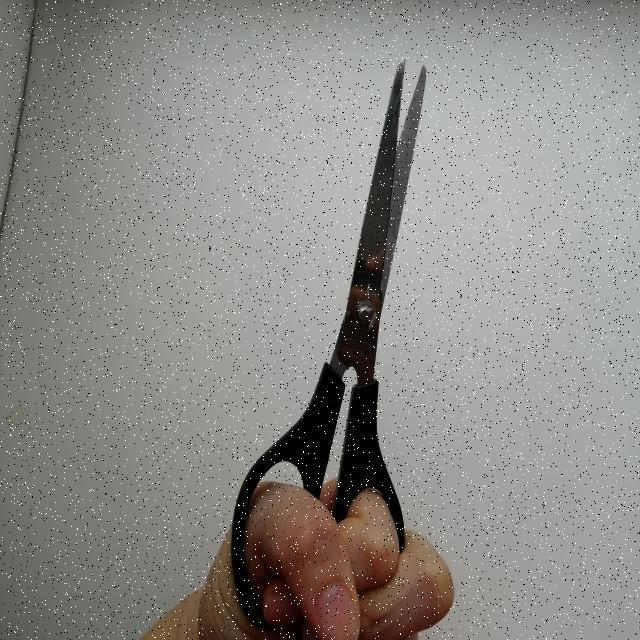scissors: (224, 49, 433, 639)
